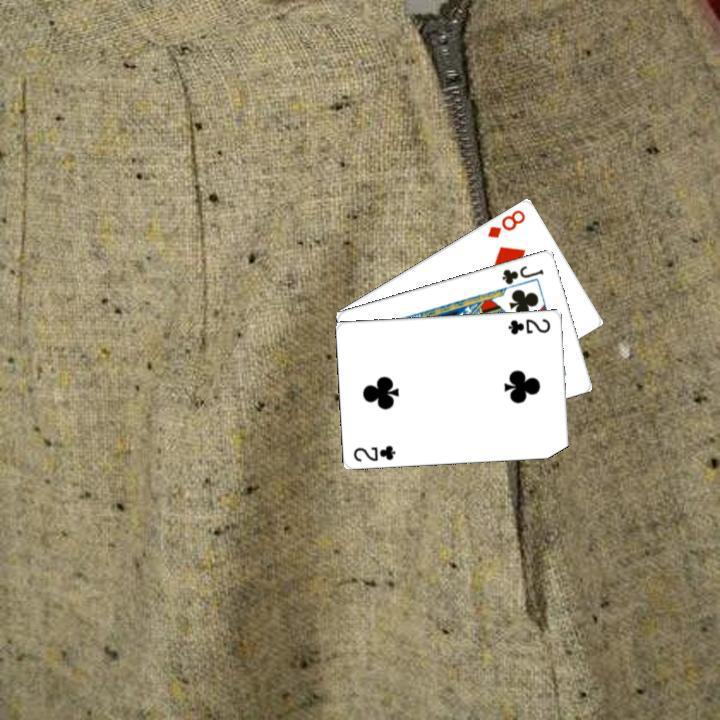2: (349, 440, 398, 463), (504, 314, 553, 336)
8: (483, 205, 527, 240)
J: (498, 261, 546, 286)
